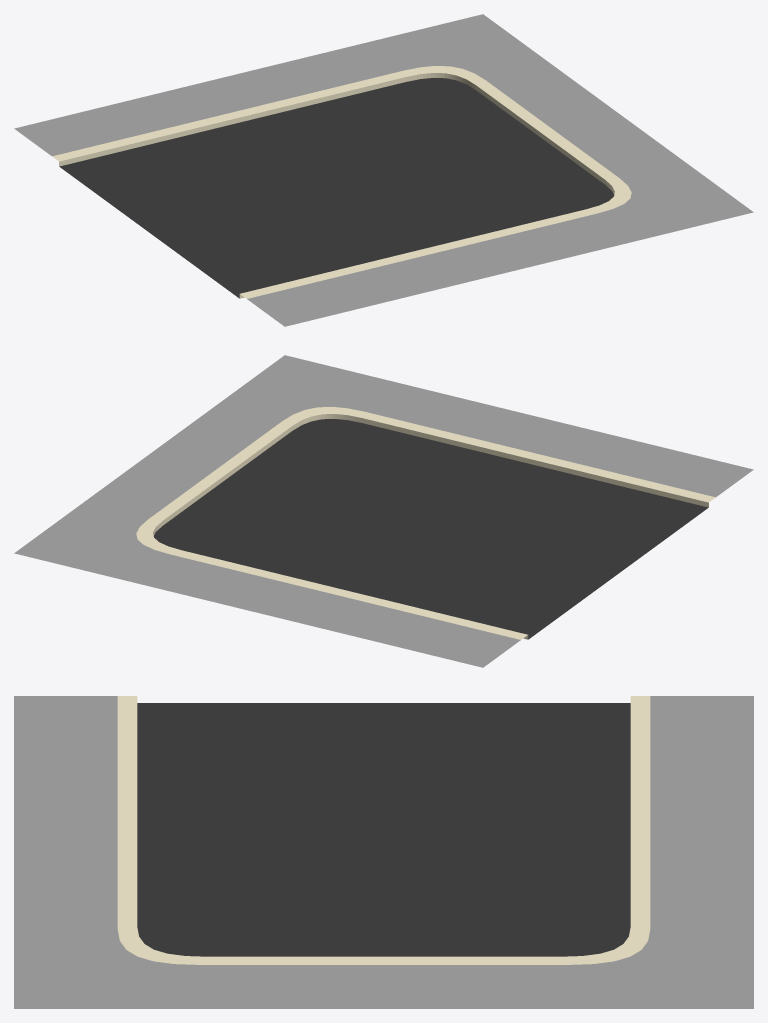
File: Strasse4.glb
3 views of the same model, one above another, from view 1: azimuth 30°, elevation 25°; view 2: azimuth 150°, elevation 25°; view 3: azimuth 270°, elevation 25° (orthographic). The views are drawn at different scales.
Visible parts, largest first — view 1: Strasse4; view 2: Strasse4; view 3: Strasse4.
Boxes of the visible parts, bbox=[...] form: Strasse4: bbox=[14, 14, 753, 326]; Strasse4: bbox=[14, 355, 753, 667]; Strasse4: bbox=[14, 696, 753, 1008].
Size of the model in its own units: 6 by 0.061 by 6.
1 material, 1 textured.
